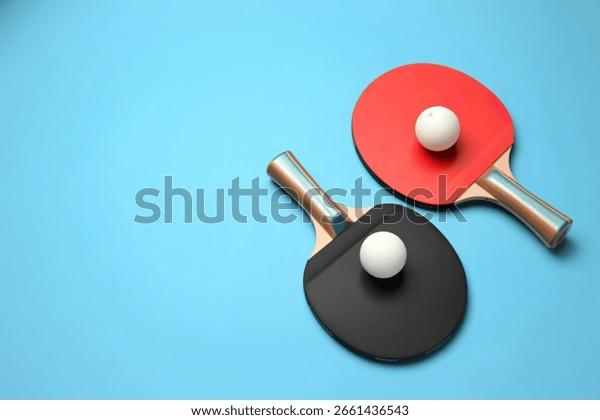ball_pingpong: (359, 230, 408, 281), (411, 104, 460, 153)
